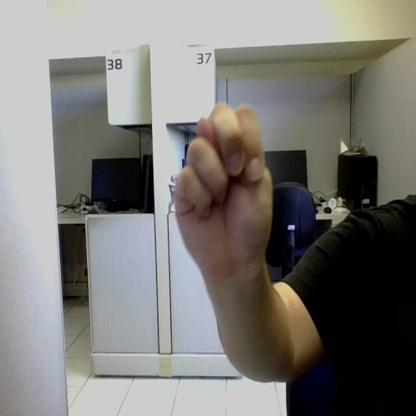N: (175, 103, 271, 276)
